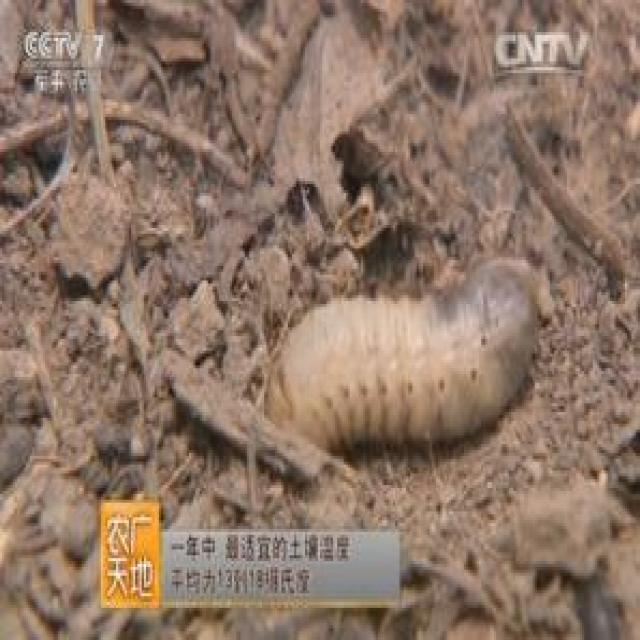Grub-Adult-: (250, 253, 560, 458)
